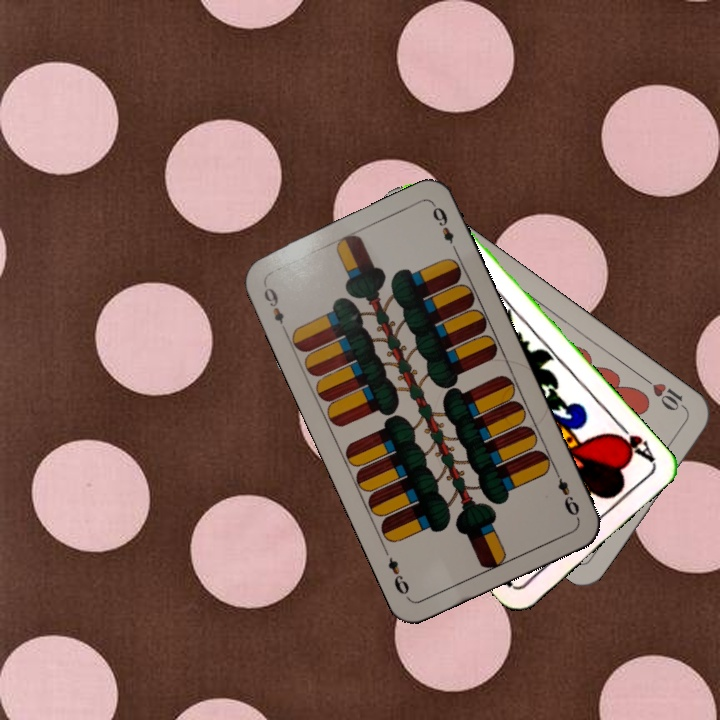E9: (550, 466, 582, 521), (259, 283, 287, 326)
H10: (640, 373, 691, 414)
HA: (607, 416, 657, 465)
